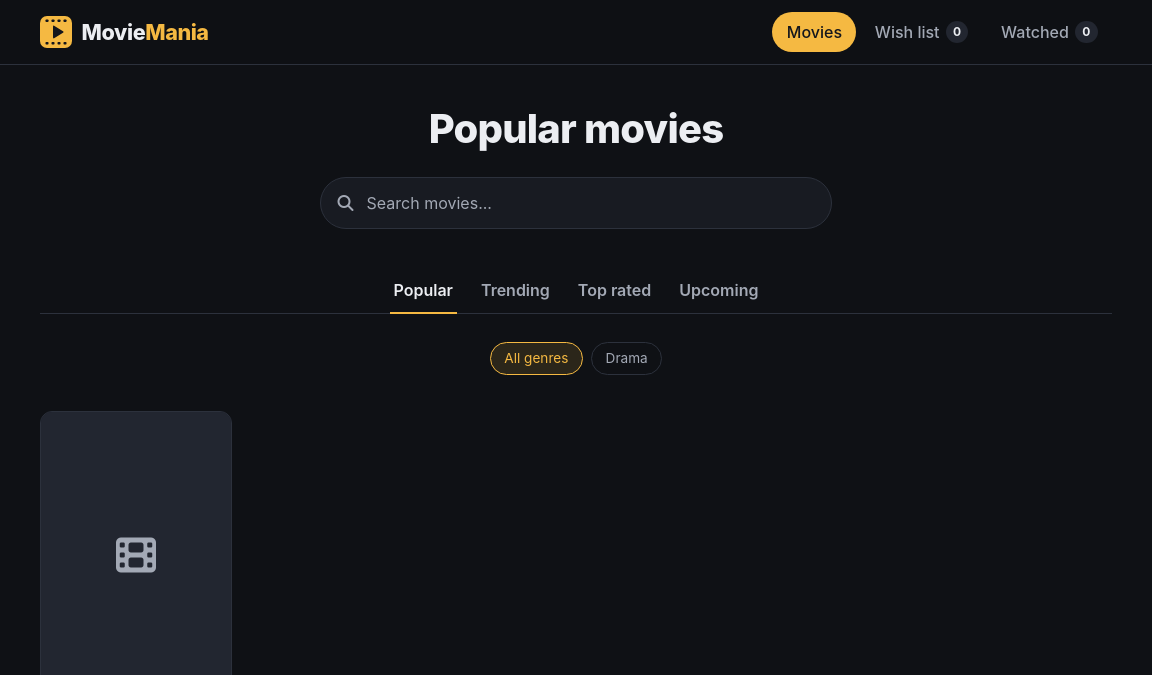
Test: MovieMania › searches once after typing pauses, and returns to the list when cleared
Type "dune" into the search field labelled "Search movies" at {"x": 576, "y": 203}, box x1=320 y1=177 x2=832 y2=229
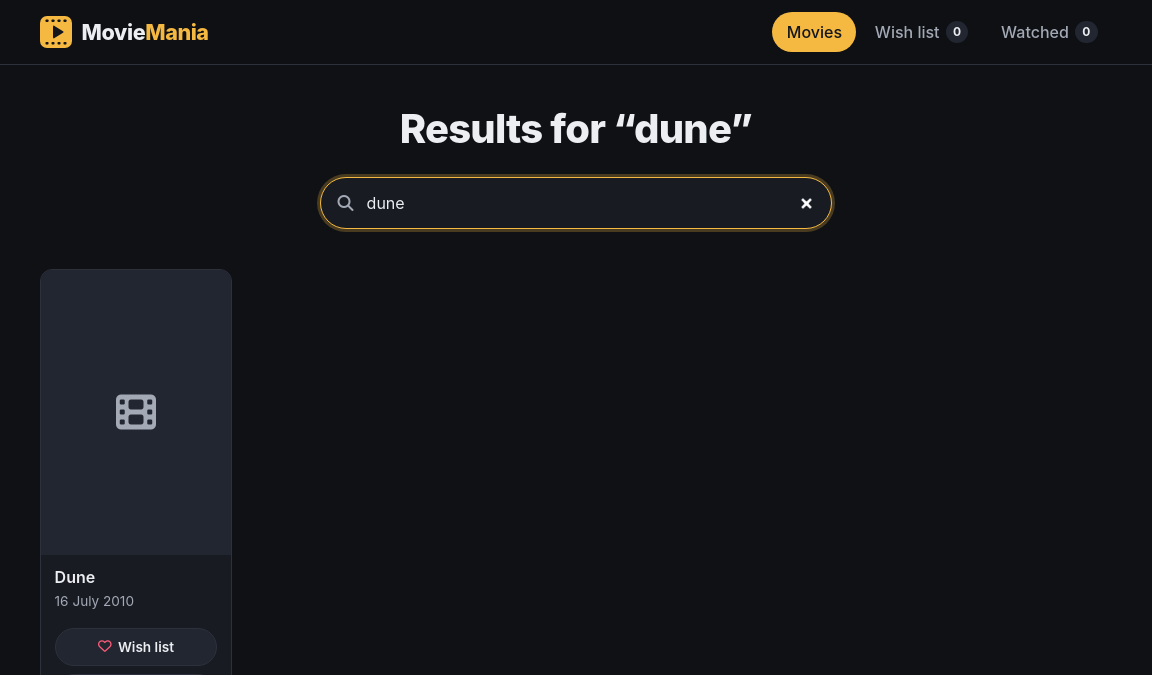
Check: the heading "Dune" is shown, box x1=55 y1=567 x2=95 y2=587
Check: the heading "Results for “dune”" is shown, box x1=400 y1=104 x2=752 y2=153
Clear the search field named "Search movies" at {"x": 576, "y": 203}, box x1=320 y1=177 x2=832 y2=229
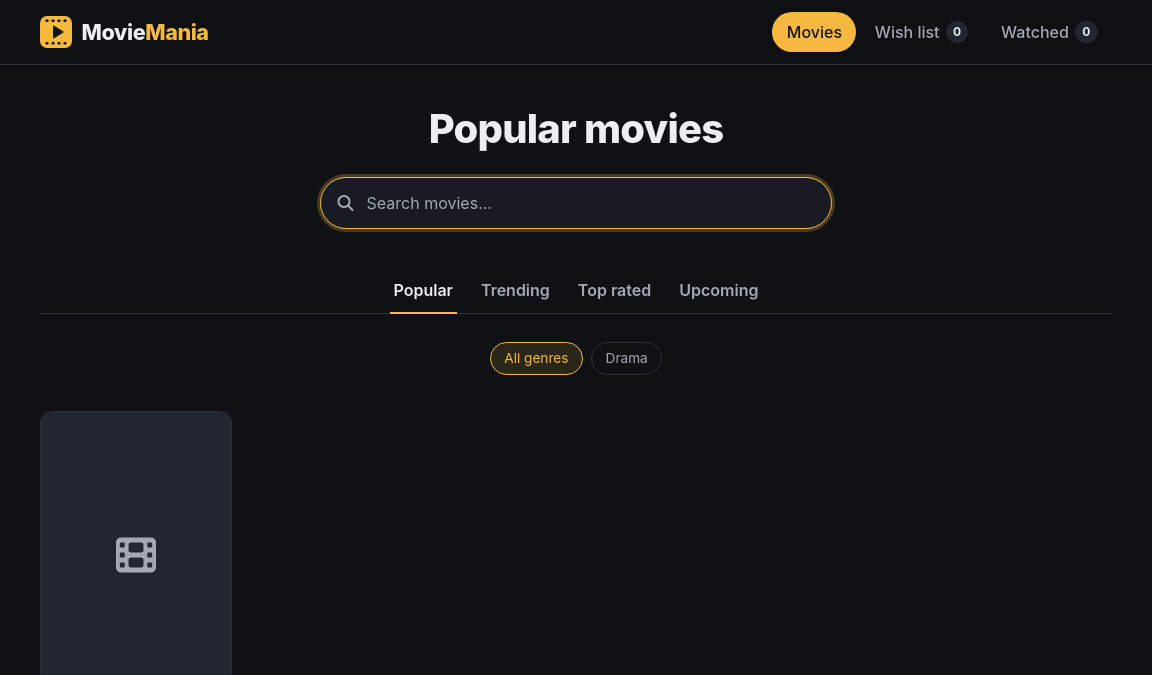
Check: the navigation bar named "Movie lists" is shown, box x1=40 y1=269 x2=1112 y2=314
